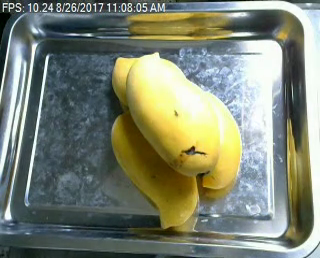Mango: (123, 49, 222, 176), (106, 110, 198, 230), (187, 81, 248, 191)
